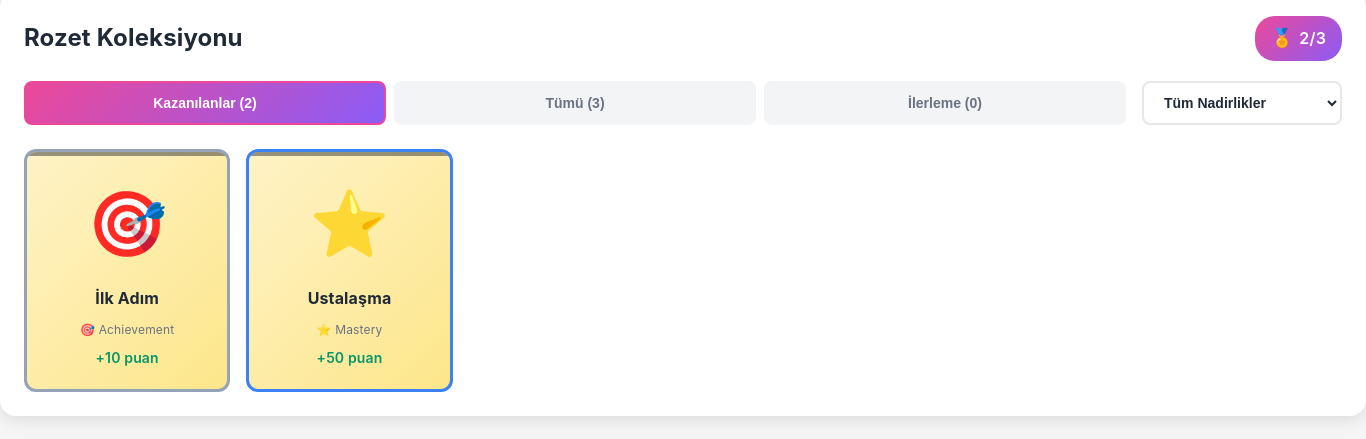
Test: BadgeCollection - Rarity Filter › filters by common rarity
The image size is (1366, 439).
Select "Yaygın" in the dropdown at (1242, 103), box [1142,81,1342,125]
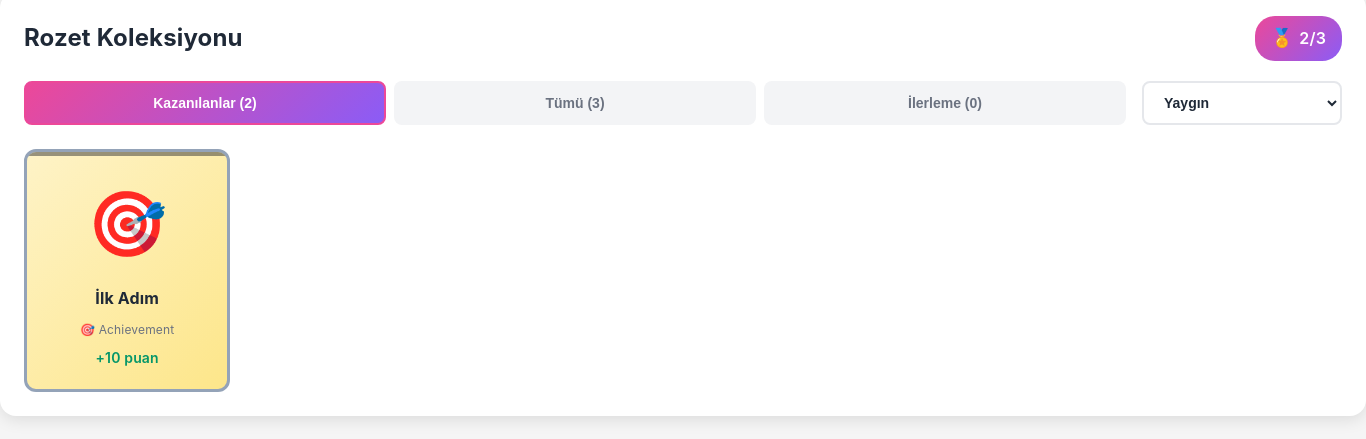
Expected: the text "İlk Adım" is shown, [95,288,159,308]
Expected: the text "Ustalaşma" is gone
